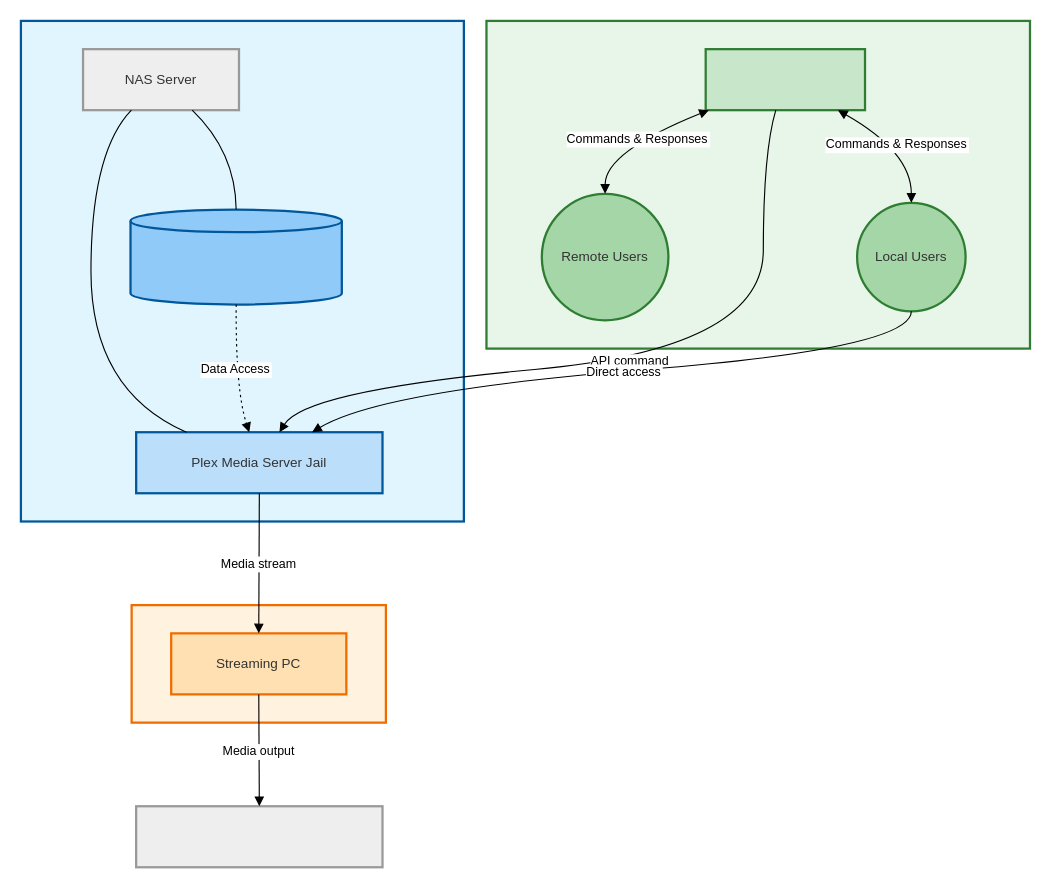
Image size: 1050x887. Some labels were removed from this diagram. The box of each missing label's shape, as (x1, y1, x2, y2) in pixels:
Discord Bot: (704, 47, 866, 111)
Discord Ecosystem: (485, 19, 1031, 349)
Discord Voice Channel: (134, 805, 383, 868)
Non-redundant ZFS Pool: (129, 208, 342, 305)
